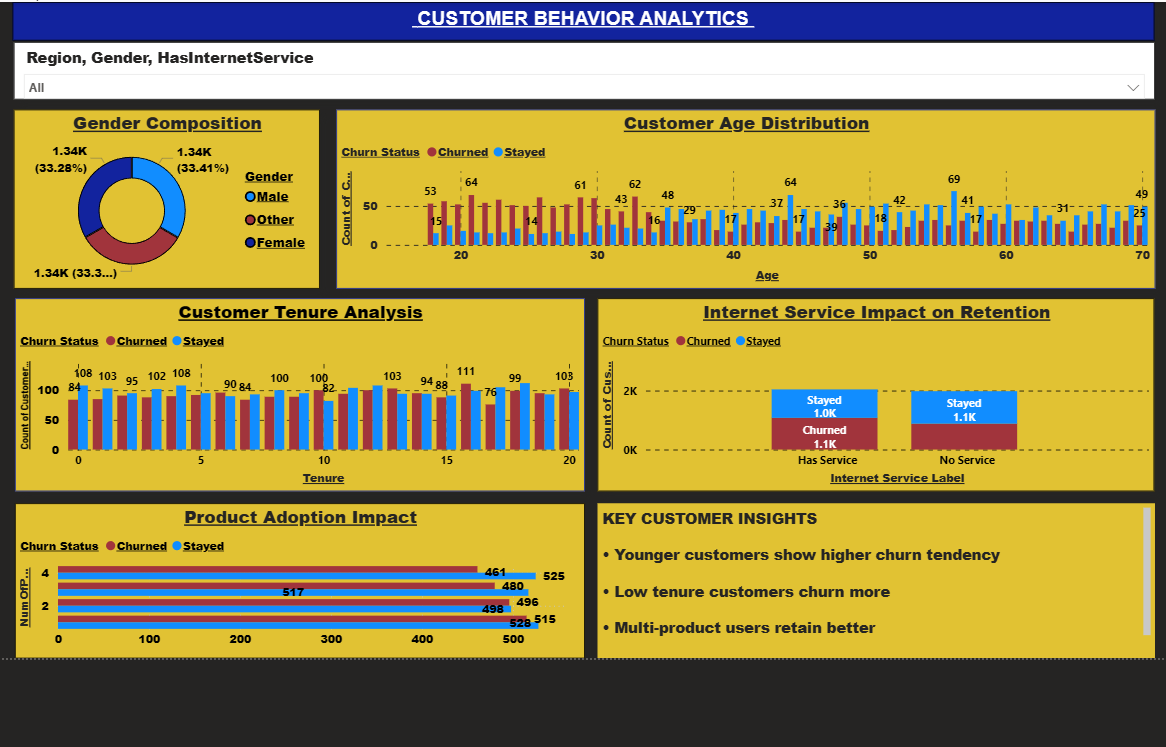

This screenshot's page, from the dashboard's own definition file:
{"tool":"powerbi","page":{"name":"Page 2","canvas":[1280,720],"ordinal":1},"visuals":[{"type":"textbox","box":[13.5,0,1253.4,42.8],"z":0},{"type":"slicer","fields":{"Values":["train.Region","train.Gender","train.HasInternetService"]},"box":[15.5,43.3,1252.4,63.5],"z":1000},{"type":"clusteredColumnChart","title":"Customer Age Distribution","fields":{"Category":["train.Age"],"Y":["CountNonNull(train.CustomerID)"],"Series":["train.Churn Status"]},"box":[368.5,117.7,899.5,196.6],"z":2000},{"type":"donutChart","title":"Gender Composition","fields":{"Category":["train.Gender"],"Y":["CountNonNull(train.CustomerID)"]},"box":[15.5,117.7,335.9,196.6],"z":3000},{"type":"clusteredColumnChart","title":"Customer Tenure Analysis","fields":{"Category":["train.Tenure"],"Y":["CountNonNull(train.CustomerID)"],"Series":["train.Churn Status"]},"box":[17,325.1,625.4,212.1],"z":4000},{"type":"columnChart","title":"Internet Service Impact on Retention","fields":{"Category":["train.Internet Service Label"],"Y":["CountNonNull(train.CustomerID)"],"Series":["train.Churn Status"]},"box":[656.4,325.1,611.5,212.1],"z":5000},{"type":"clusteredBarChart","title":"Product Adoption Impact","fields":{"Category":["train.NumOfProducts"],"Y":["CountNonNull(train.CustomerID)"],"Series":["train.Churn Status"]},"box":[17,549.6,625.4,170.3],"z":6000},{"type":"textbox","box":[656,550,612,170],"z":7000}]}

Visuals, with their boxes on the page's 1280x720 design canvas (x1, y1, x2, y2). These are canvas units, not pixel positions in the 1166x747 screenshot, which may show the page scaled, cropped or inside an application window:
textbox: [14, 0, 1267, 43]
slicer - train.Region x train.Gender: [16, 43, 1268, 107]
"Customer Age Distribution" clusteredColumnChart: [368, 118, 1268, 314]
"Gender Composition" donutChart: [16, 118, 351, 314]
"Customer Tenure Analysis" clusteredColumnChart: [17, 325, 642, 537]
"Internet Service Impact on Retention" columnChart: [656, 325, 1268, 537]
"Product Adoption Impact" clusteredBarChart: [17, 550, 642, 720]
textbox: [656, 550, 1268, 720]
